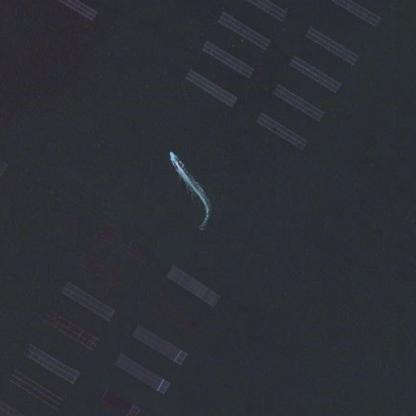ship: (161, 144, 188, 170)
